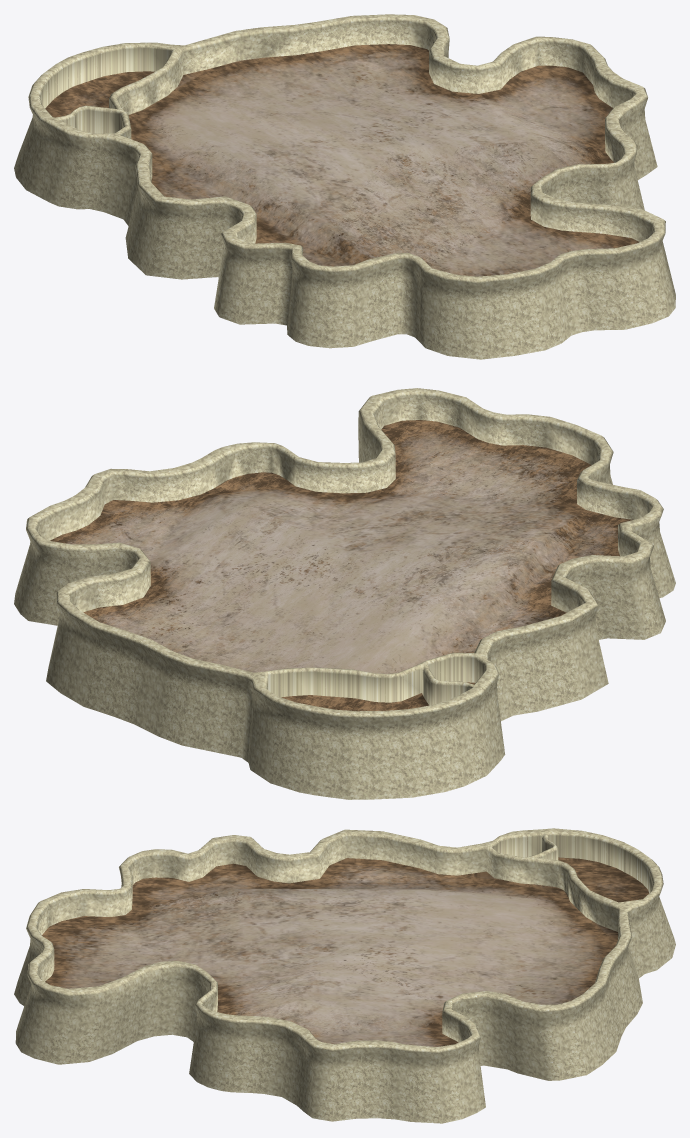
File: Plates_Big_1.fbx
3 views of the same model, one above another, from view 1: azimuth 30°, elevation 25°; view 2: azimuth 150°, elevation 25°; view 3: azimuth 270°, elevation 25° (orthographic). The views are drawn at different scales.
Parts seen in each view (by area): view 1: Plates_Big_1; view 2: Plates_Big_1; view 3: Plates_Big_1.
Part boxes in pixels (box(x1,y1,x2,y2)): Plates_Big_1: box(14, 14, 675, 359); Plates_Big_1: box(14, 388, 675, 799); Plates_Big_1: box(14, 828, 675, 1123).
Bounding box in the file's own units: 26.05 × 3.77 × 31.42.
Materials: 2 (2 with a texture image).
